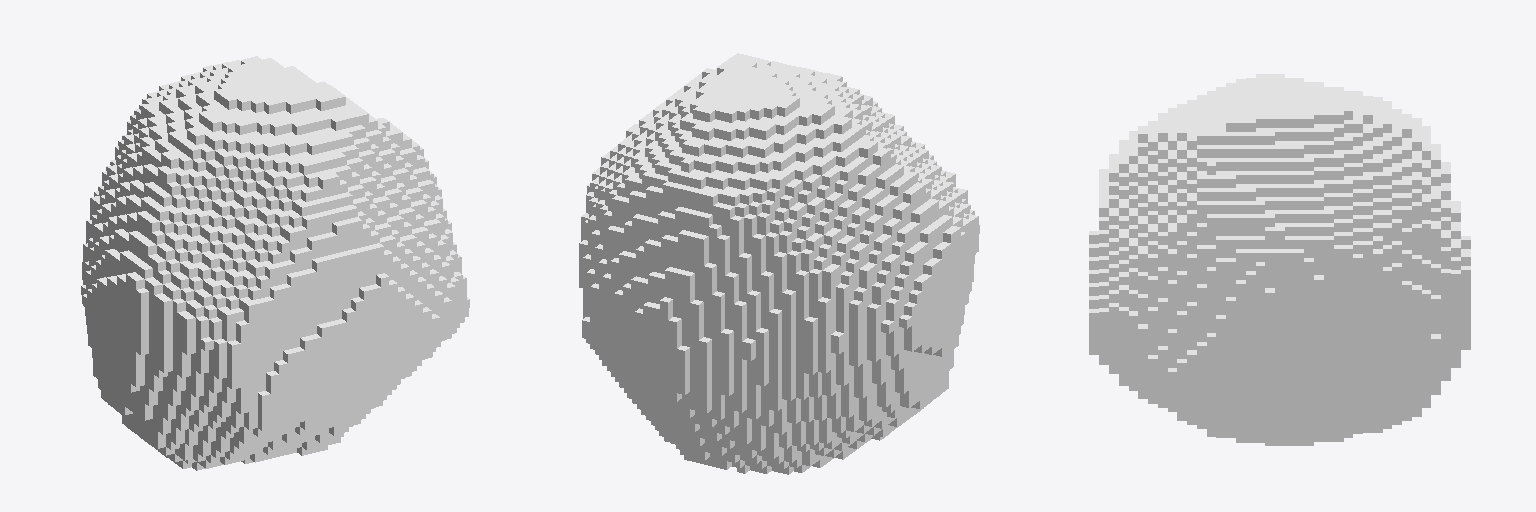
File: rock-02.obj
The picture shows the model from 3 angles: view 1: azimuth 30°, elevation 25°; view 2: azimuth 150°, elevation 25°; view 3: azimuth 270°, elevation 25°; orthographic projection.
Bounding box in the file's own units: 37 × 37 × 39.